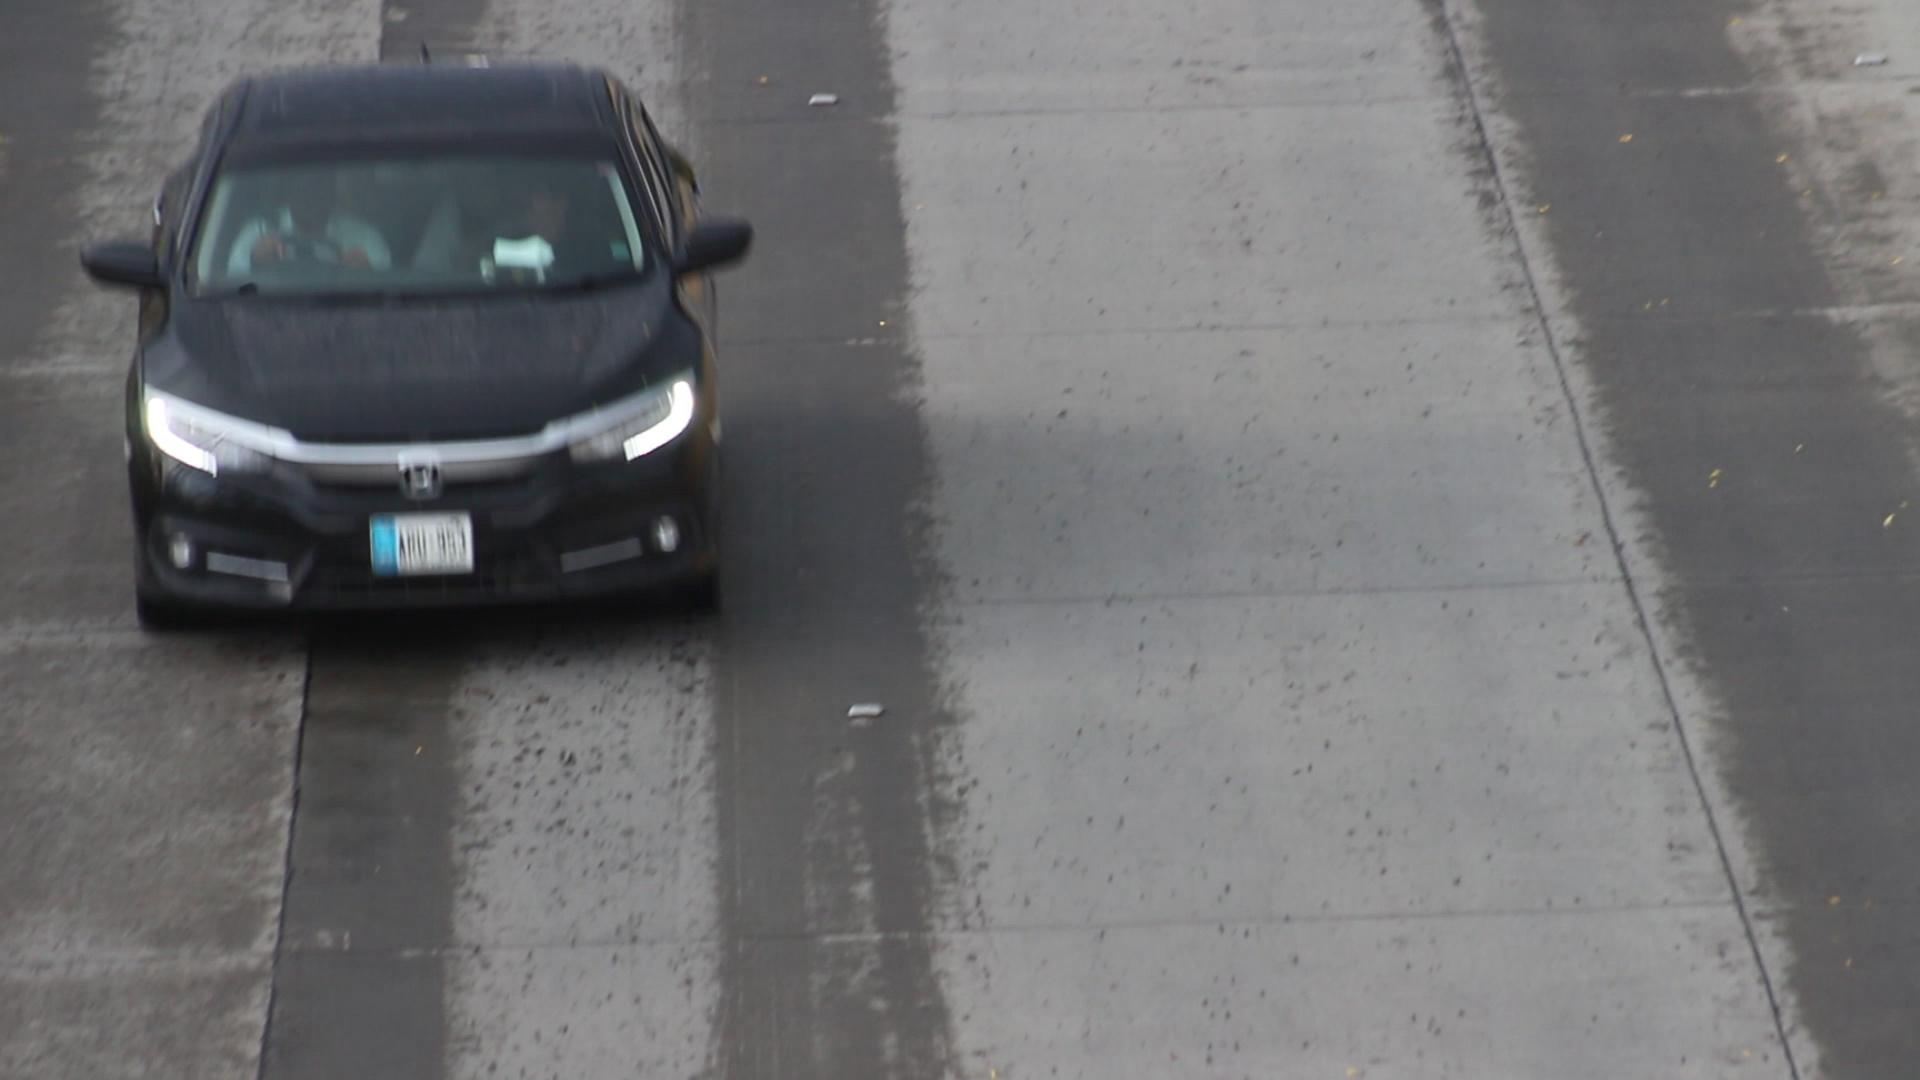windshield: (191, 140, 654, 307)
